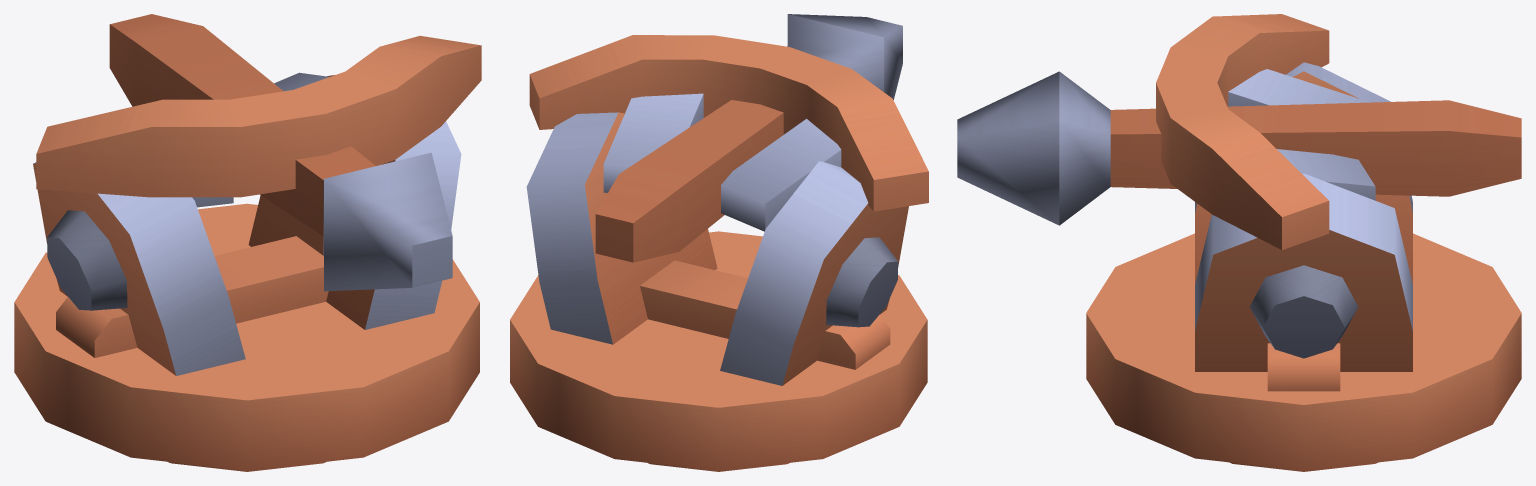
The model's file is weapon-ballista.fbx.
The picture shows the model from 3 angles, left to right: view 1: azimuth 30°, elevation 25°; view 2: azimuth 150°, elevation 25°; view 3: azimuth 270°, elevation 25°; orthographic projection. The views are drawn at different scales.
Visible parts, largest first — view 1: weapon-ballista, arrow; view 2: weapon-ballista, arrow; view 3: weapon-ballista, arrow.
Part boxes in pixels (bbox=[...]): weapon-ballista: bbox=[14, 75, 479, 471]; arrow: bbox=[36, 14, 481, 291]; weapon-ballista: bbox=[510, 112, 927, 471]; arrow: bbox=[529, 14, 928, 262]; weapon-ballista: bbox=[1086, 62, 1521, 471]; arrow: bbox=[957, 14, 1521, 249].
Size of the model in its own units: 66.27 by 50 by 77.76.
